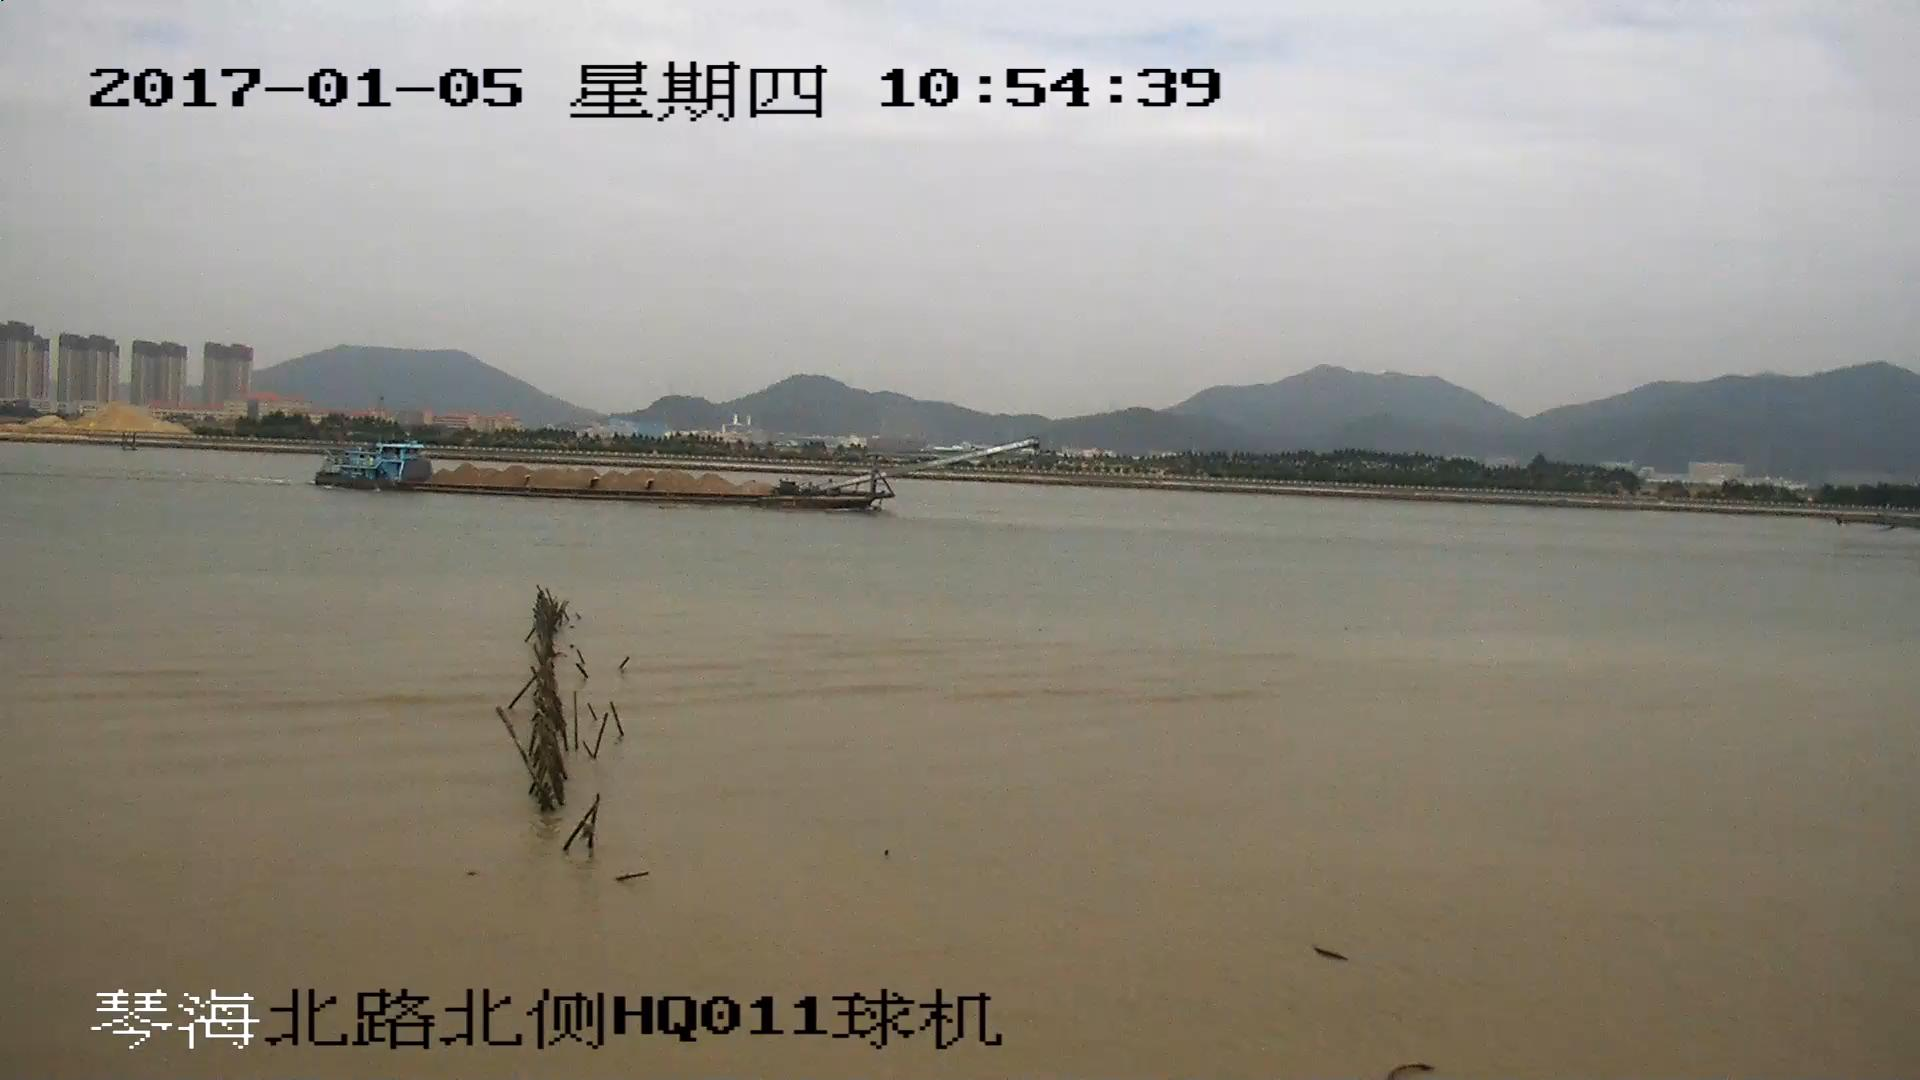ore carrier: (316, 438, 1032, 510)
